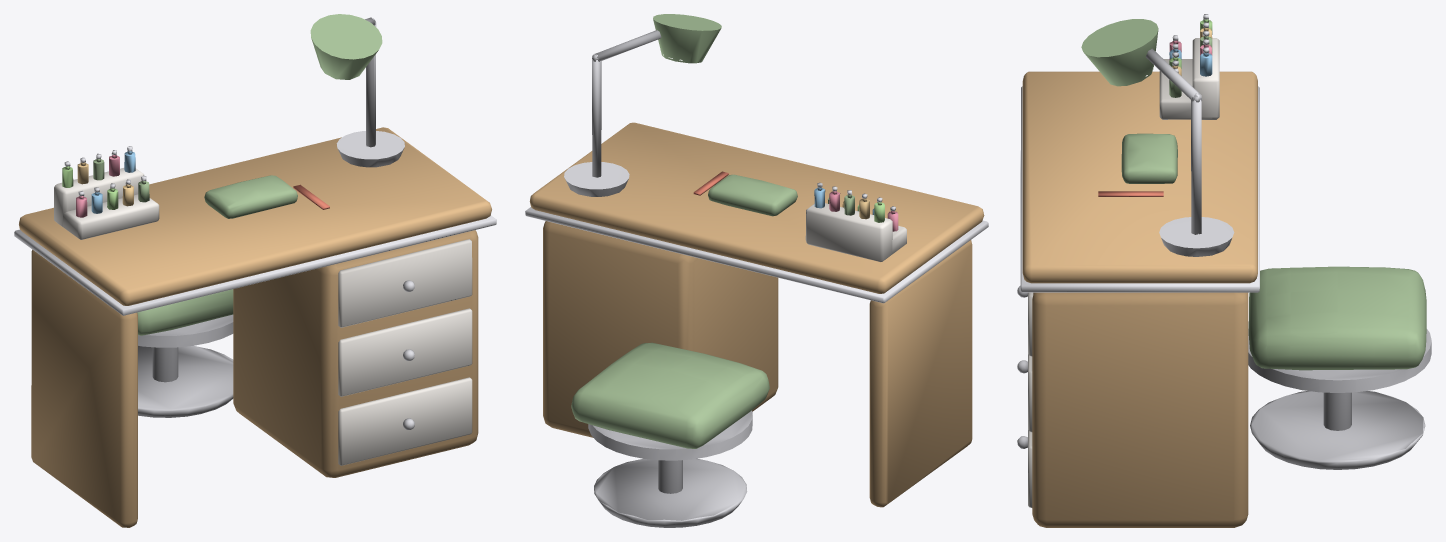
File: nail-desk-wood.glb
3 views of the same model, side by side, from view 1: azimuth 30°, elevation 25°; view 2: azimuth 150°, elevation 25°; view 3: azimuth 270°, elevation 25° (orthographic). The views are drawn at different scales.
Parts seen in each view (by area): view 1: nail-desk-wood; view 2: nail-desk-wood; view 3: nail-desk-wood.
Part boxes in pixels (x1,y1,x2,y2): nail-desk-wood: [14, 14, 496, 527]; nail-desk-wood: [525, 14, 988, 527]; nail-desk-wood: [1017, 14, 1431, 527].
Bounding box in the file's own units: 1.01 × 1.06 × 0.8819.
